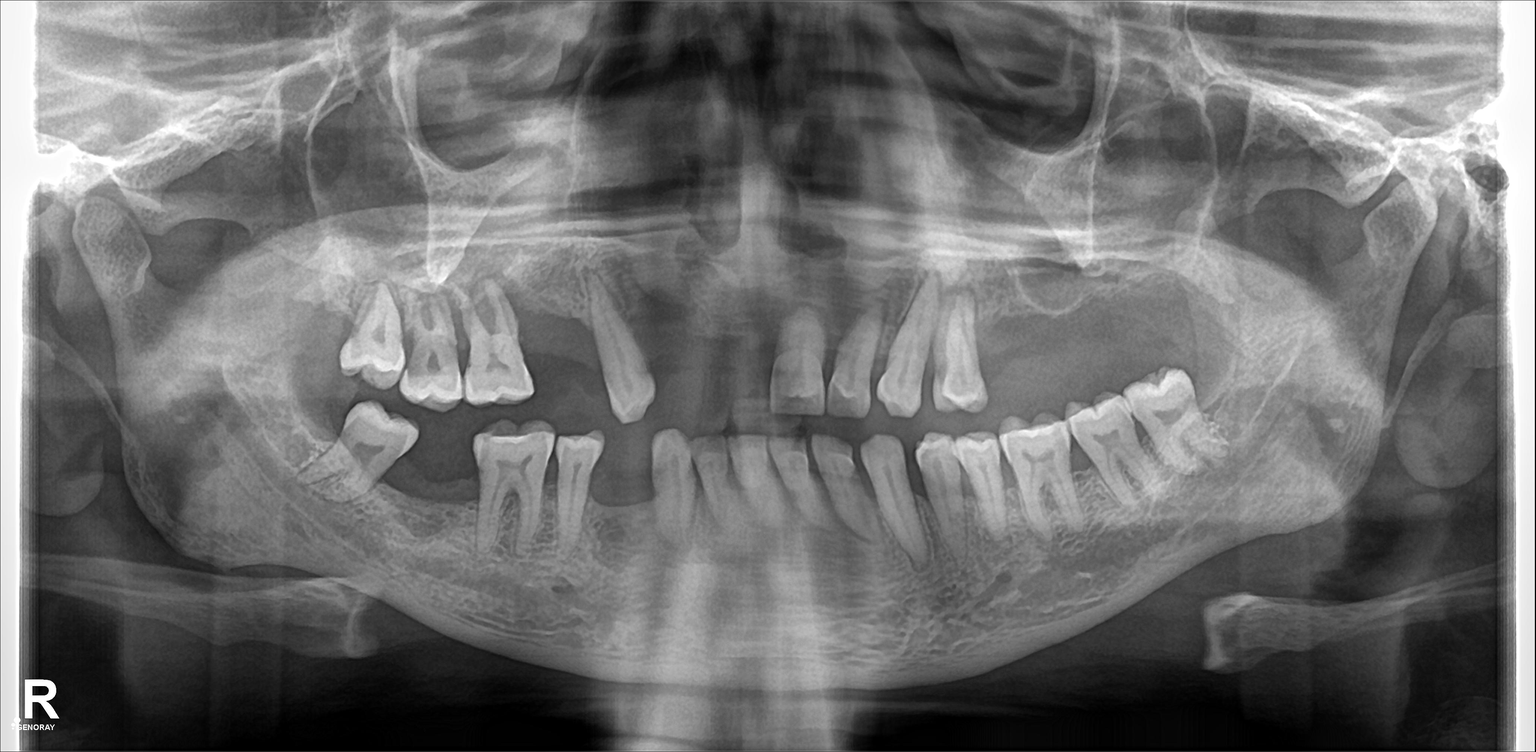Missing Tooth: (991, 275, 1050, 392), (706, 316, 772, 416), (536, 292, 591, 393), (1117, 261, 1172, 361), (663, 318, 714, 419), (298, 277, 350, 374), (417, 426, 457, 547), (1065, 264, 1107, 372), (609, 456, 656, 551), (1175, 255, 1216, 355)
